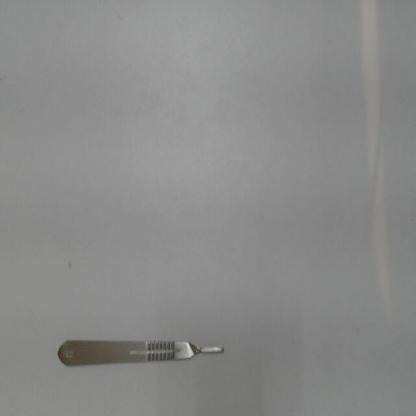No.3 BP Handle: (53, 330, 228, 381)
